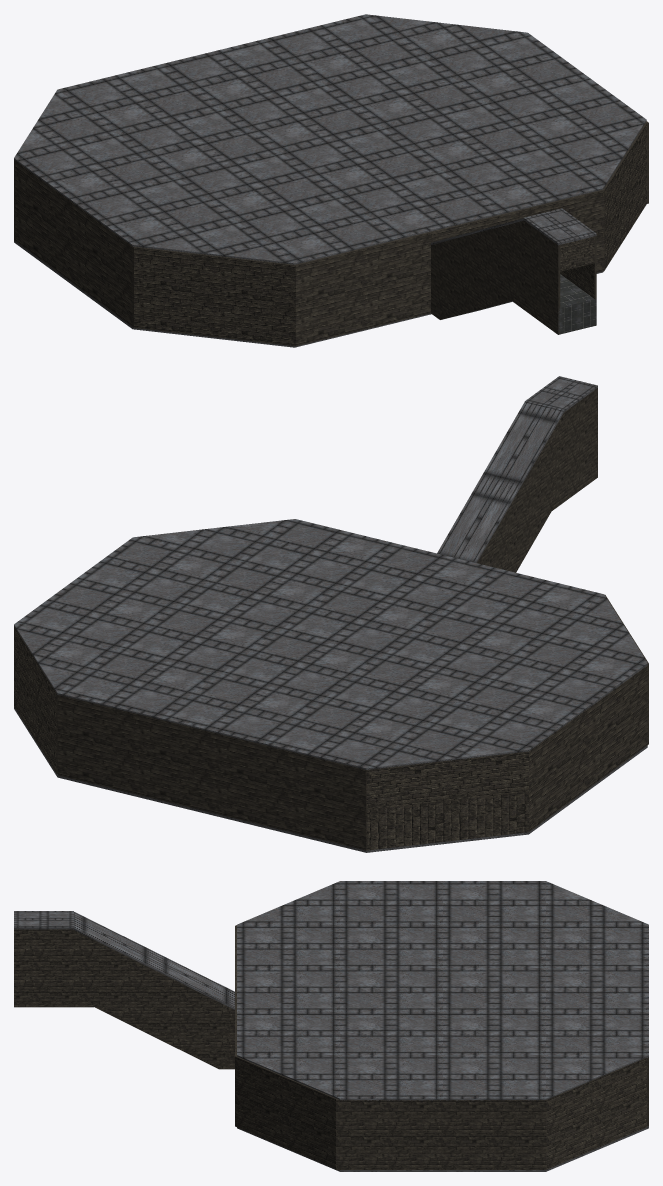
The model's file is bossroom.fbx.
3 renders of one model, top to bottom at view 1: azimuth 30°, elevation 25°; view 2: azimuth 150°, elevation 25°; view 3: azimuth 270°, elevation 25°, orthographic. The views are drawn at different scales.
Parts seen in each view (by area): view 1: Floor.001, Cube.007, Cube.001, Cube.011, Cube.008, Cube.003, Cube.005, Cube.012, Floor, Cube.002; view 2: Floor.001, Cube.009, Cube.011, Cube.001, Cube.004, Cube.006, Floor, Cube.005; view 3: Floor.001, Cube.006, Cube.002, Cube.008, Cube.004, Cube.005, Floor.
Part boxes in pixels (box(x1,y1,x2,y2)): Floor.001: box(14, 14, 646, 264); Cube.007: box(132, 231, 432, 346); Cube.001: box(431, 220, 560, 334); Cube.011: box(15, 161, 132, 326); Cube.008: box(466, 122, 646, 272); Cube.003: box(558, 277, 596, 334); Cube.005: box(523, 208, 596, 245); Cube.012: box(560, 236, 594, 271); Floor: box(14, 240, 603, 347); Cube.002: box(560, 236, 596, 298); Floor.001: box(14, 519, 647, 769); Cube.009: box(57, 695, 529, 850); Cube.011: box(529, 665, 647, 831); Cube.001: box(477, 388, 597, 572); Cube.004: box(437, 402, 563, 562); Cube.006: box(14, 626, 57, 773); Floor: box(14, 707, 647, 852); Cube.005: box(524, 376, 597, 412); Floor.001: box(237, 881, 648, 1100); Cube.006: box(336, 1057, 646, 1169); Cube.002: box(14, 929, 234, 1069); Cube.008: box(235, 998, 339, 1169); Cube.004: box(73, 912, 234, 1009); Cube.005: box(14, 911, 73, 929); Floor: box(237, 1126, 648, 1171).
Size of the model in its own units: 12000 by 3700 by 14800.
